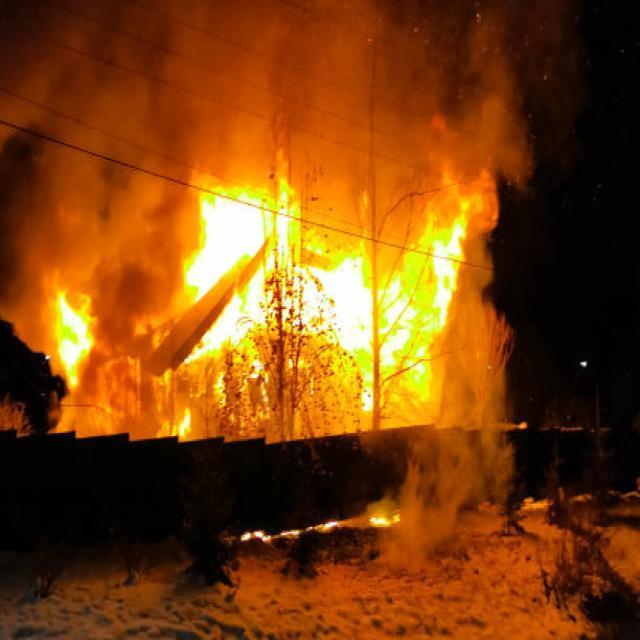Fire: (190, 155, 482, 413), (50, 280, 99, 392)
Smoke: (0, 28, 199, 398)
